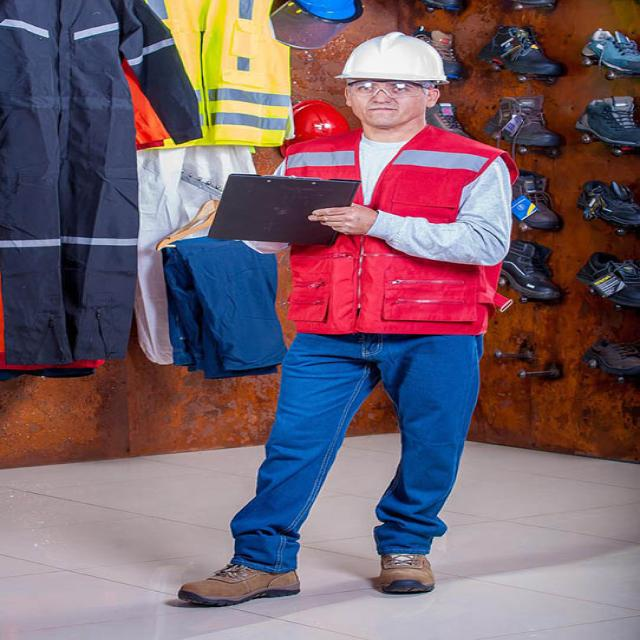goggles: (321, 65, 445, 104)
helmet: (317, 21, 468, 105)
vest: (266, 130, 526, 339)
